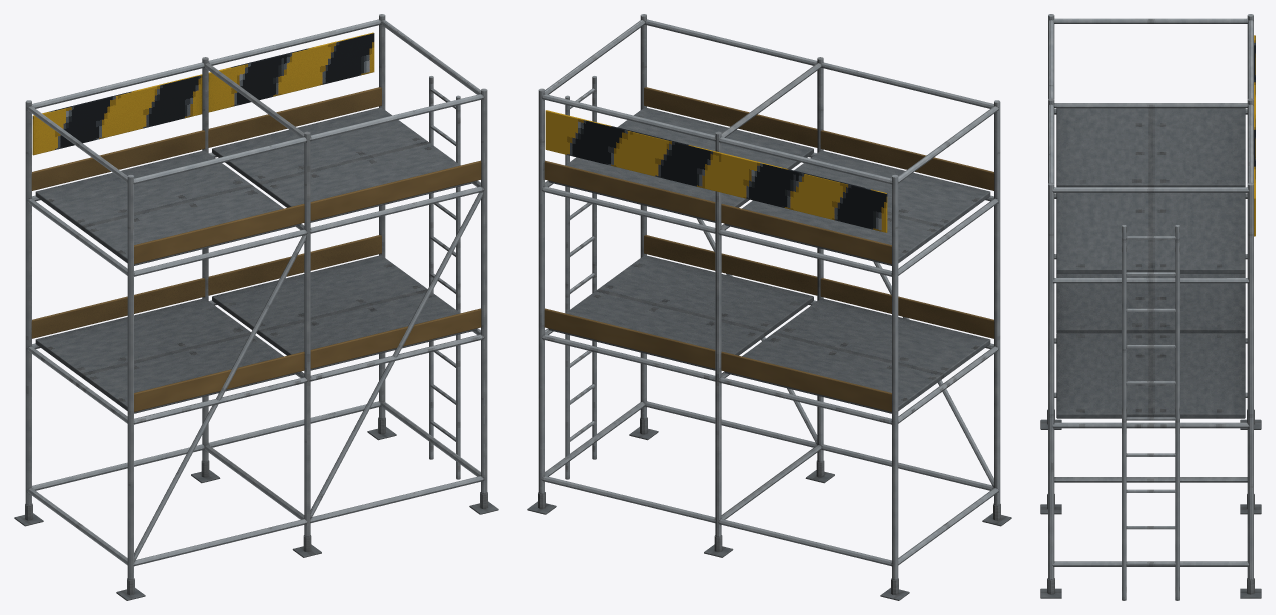
Rendered from base_build_scaffold.glb.
3 views of the same model, side by side, from view 1: azimuth 30°, elevation 25°; view 2: azimuth 150°, elevation 25°; view 3: azimuth 270°, elevation 25° (orthographic). The views are drawn at different scales.
Parts seen in each view (by area): view 1: base_build_scaffold; view 2: base_build_scaffold; view 3: base_build_scaffold.
Part boxes in pixels (bbox=[...]): base_build_scaffold: bbox=[14, 14, 498, 600]; base_build_scaffold: bbox=[527, 14, 1011, 600]; base_build_scaffold: bbox=[1040, 14, 1261, 600].
Size of the model in its own units: 3.2 by 3.4 by 1.66.
5 materials, 5 textured.
